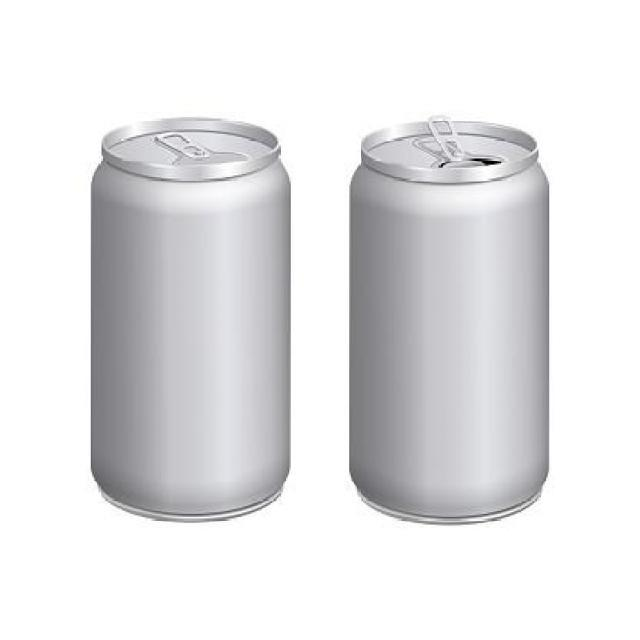can: (71, 63, 317, 540), (326, 63, 566, 551)
